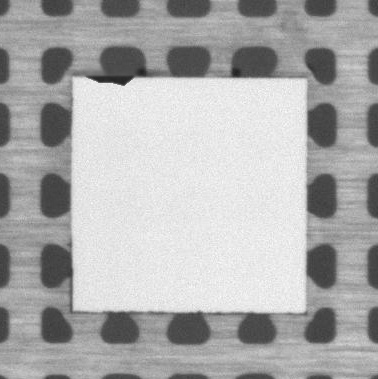DIE_BROKEN: (84, 71, 136, 88)
